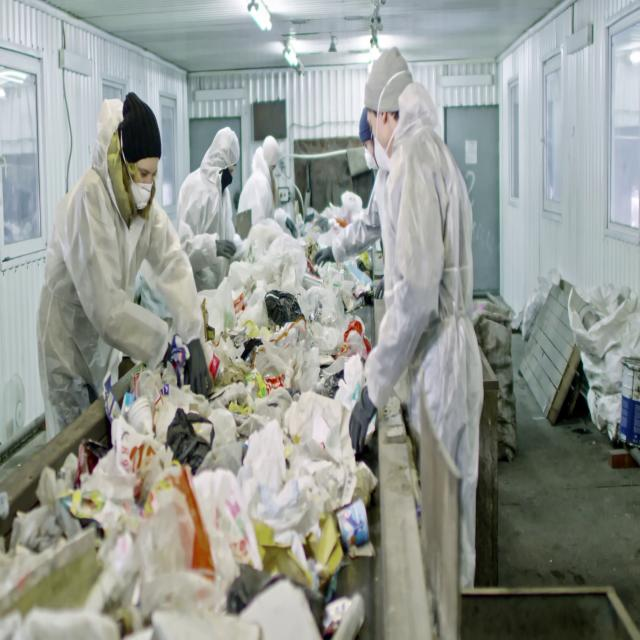gloved: (348, 385, 378, 454), (186, 338, 213, 396), (216, 238, 237, 260), (313, 246, 334, 266), (285, 216, 298, 238), (374, 275, 384, 300)
